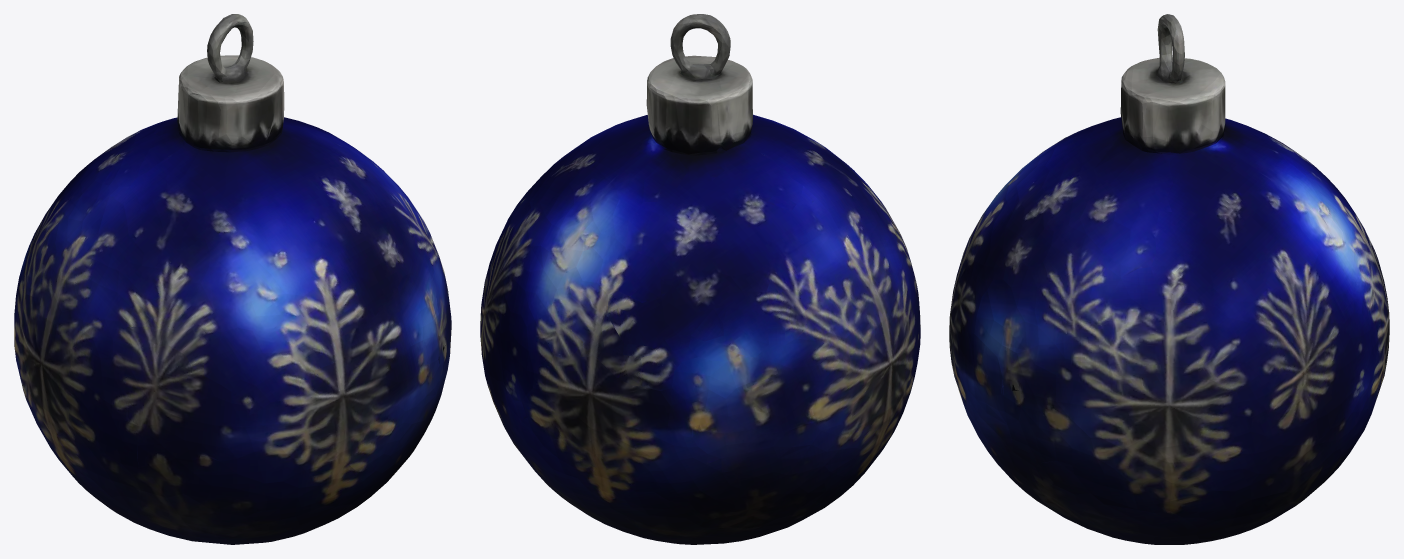
3 renders of one model, left to right at view 1: azimuth 30°, elevation 25°; view 2: azimuth 150°, elevation 25°; view 3: azimuth 270°, elevation 25°, orthographic.
Visible parts, largest first — view 1: world; view 2: world; view 3: world.
Boxes of the visible parts, bbox=[...] form: world: bbox=[14, 14, 451, 544]; world: bbox=[480, 14, 920, 544]; world: bbox=[949, 14, 1389, 544].
Bounding box in the file's own units: 0.778 × 0.9958 × 0.7815.
Materials: 1 (1 with a texture image).
